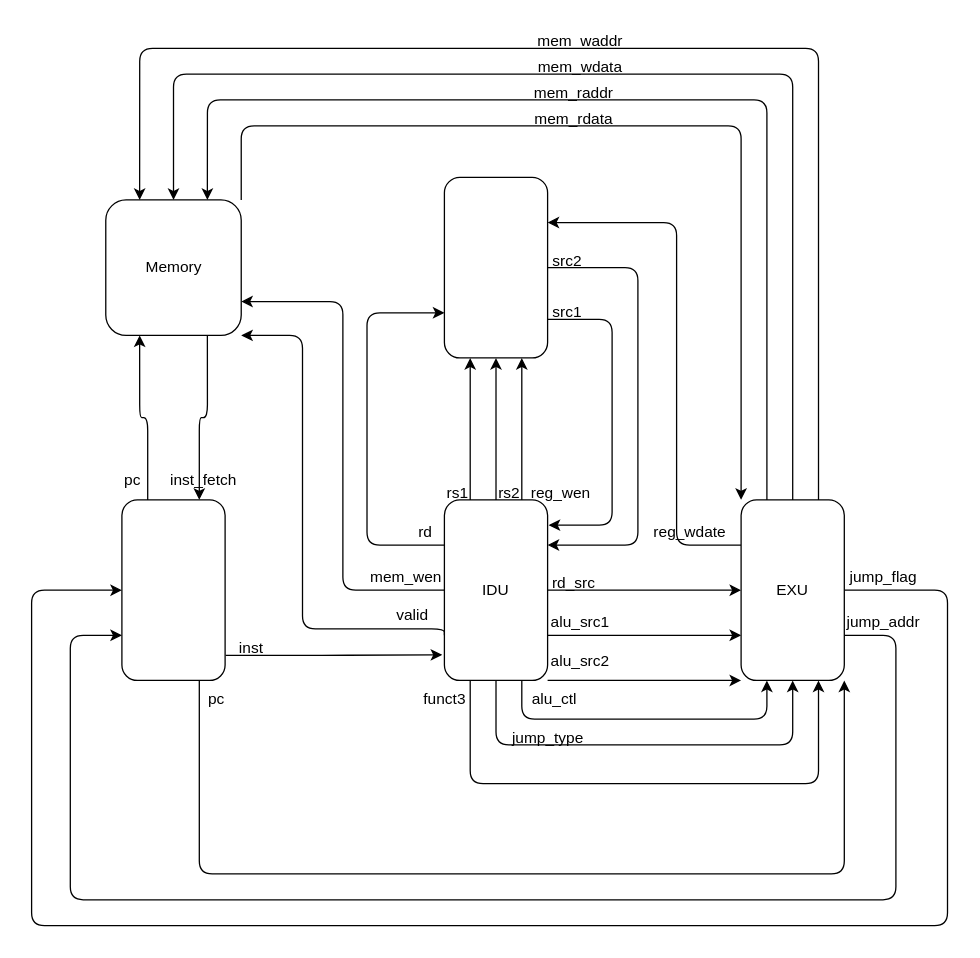
Some shapes in this 980 by 958 pixel diagram are drawn without their labels. The centre of each missing label's shape, as x and y in pixels:
"IFU" goes at (173,589).
"RegisterFIle" goes at (495,267).
